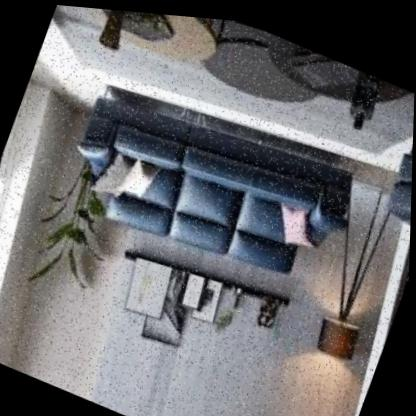Sofa: (41, 46, 376, 333)
